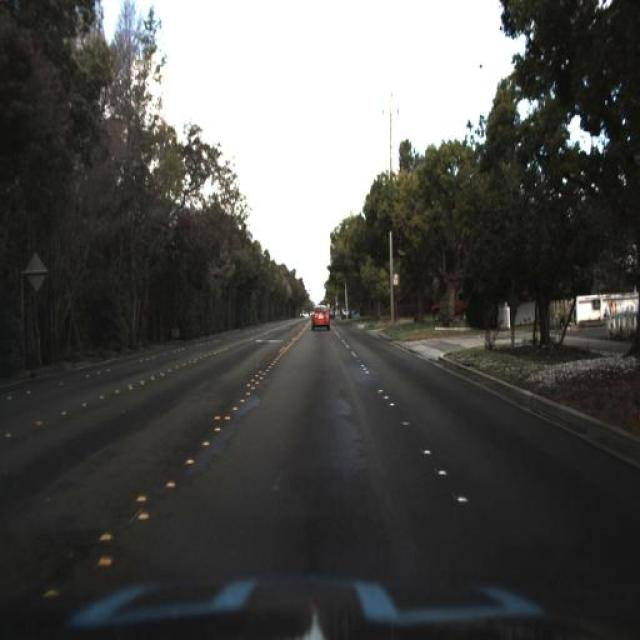car: (428, 284, 478, 324), (308, 293, 334, 338)
